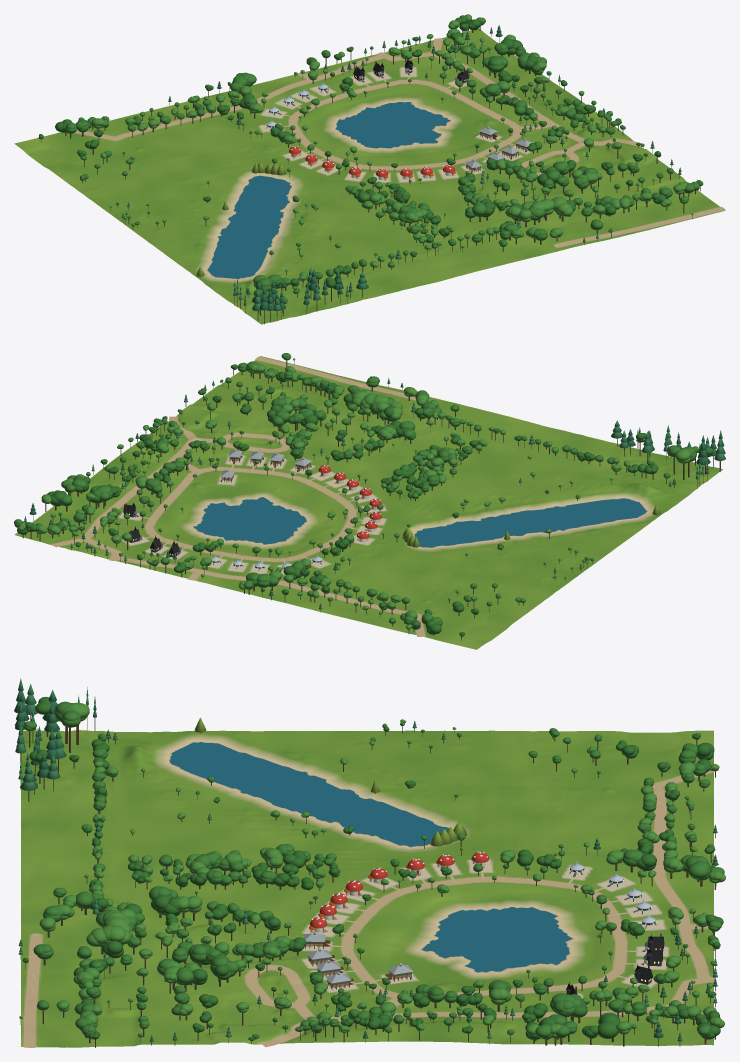
File: florida_freedom_world_lakes_present.glb
The picture shows the model from 3 angles, top to bottom: view 1: azimuth 30°, elevation 25°; view 2: azimuth 150°, elevation 25°; view 3: azimuth 270°, elevation 25°; orthographic projection. The views are drawn at different scales.
Parts seen in each view (by area): view 1: Ground, Water_0, Water_1, Lane_2, Lane_1, Lane_5, Lane_0; view 2: Ground, Water_0, Water_1, Lane_2, Lane_5, Lane_1, Lane_0, Lane_3; view 3: Ground, Water_0, Water_1, Lane_2, Lane_1, Lane_5, Lane_0, Lane_3.
Part boxes in pixels (x1,y1,x2,y2): Ground: (14,28,725,324); Water_0: (207,175,291,278); Water_1: (335,102,450,148); Lane_2: (289,80,551,169); Lane_1: (115,55,383,140); Lane_5: (376,52,641,146); Lane_0: (557,207,725,247); Ground: (14,356,722,649); Water_0: (414,498,646,547); Water_1: (193,497,306,544); Lane_2: (145,460,356,561); Lane_5: (84,416,196,561); Lane_1: (117,556,417,614); Lane_0: (255,356,415,399); Lane_3: (198,432,289,452); Ground: (21,730,713,1047); Water_0: (169,742,448,846); Water_1: (421,907,572,972); Lane_2: (341,876,627,1006); Lane_1: (652,786,709,978); Lane_5: (260,977,716,1047); Lane_0: (24,935,42,1047); Lane_3: (245,965,314,1018).
Bounding box in the file's own units: 405 × 33.55 × 375.
